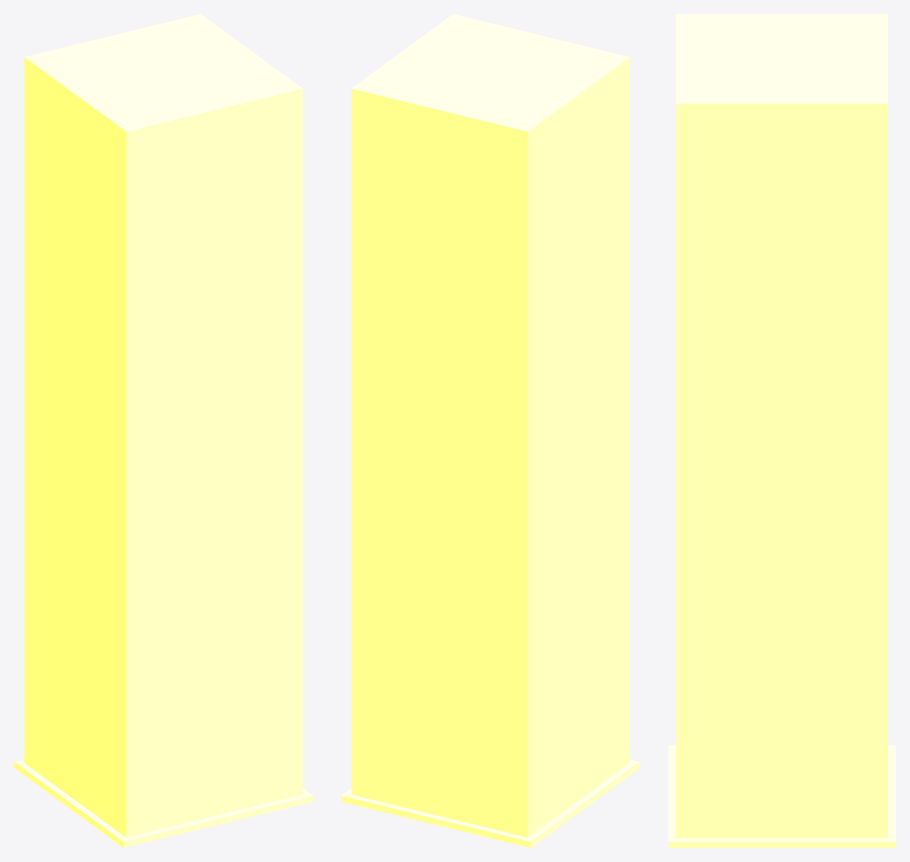
The model's file is buildingTemp.glb.
3 renders of one model, left to right at view 1: azimuth 30°, elevation 25°; view 2: azimuth 150°, elevation 25°; view 3: azimuth 270°, elevation 25°, orthographic. The views are drawn at different scales.
Visible parts, largest first — view 1: Cube; view 2: Cube; view 3: Cube.
Part boxes in pixels (left/top/right/bottom): Cube: left=14, top=14, right=312, bottom=847; Cube: left=341, top=14, right=639, bottom=847; Cube: left=668, top=14, right=895, bottom=847.
Size of the model in its own units: 3.22 by 11.55 by 3.22.
